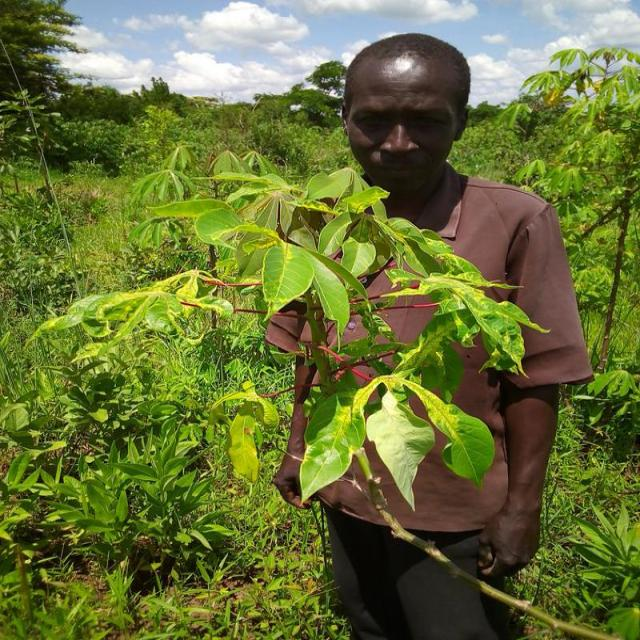cassava leaf: (366, 387, 436, 511), (298, 387, 368, 505)
